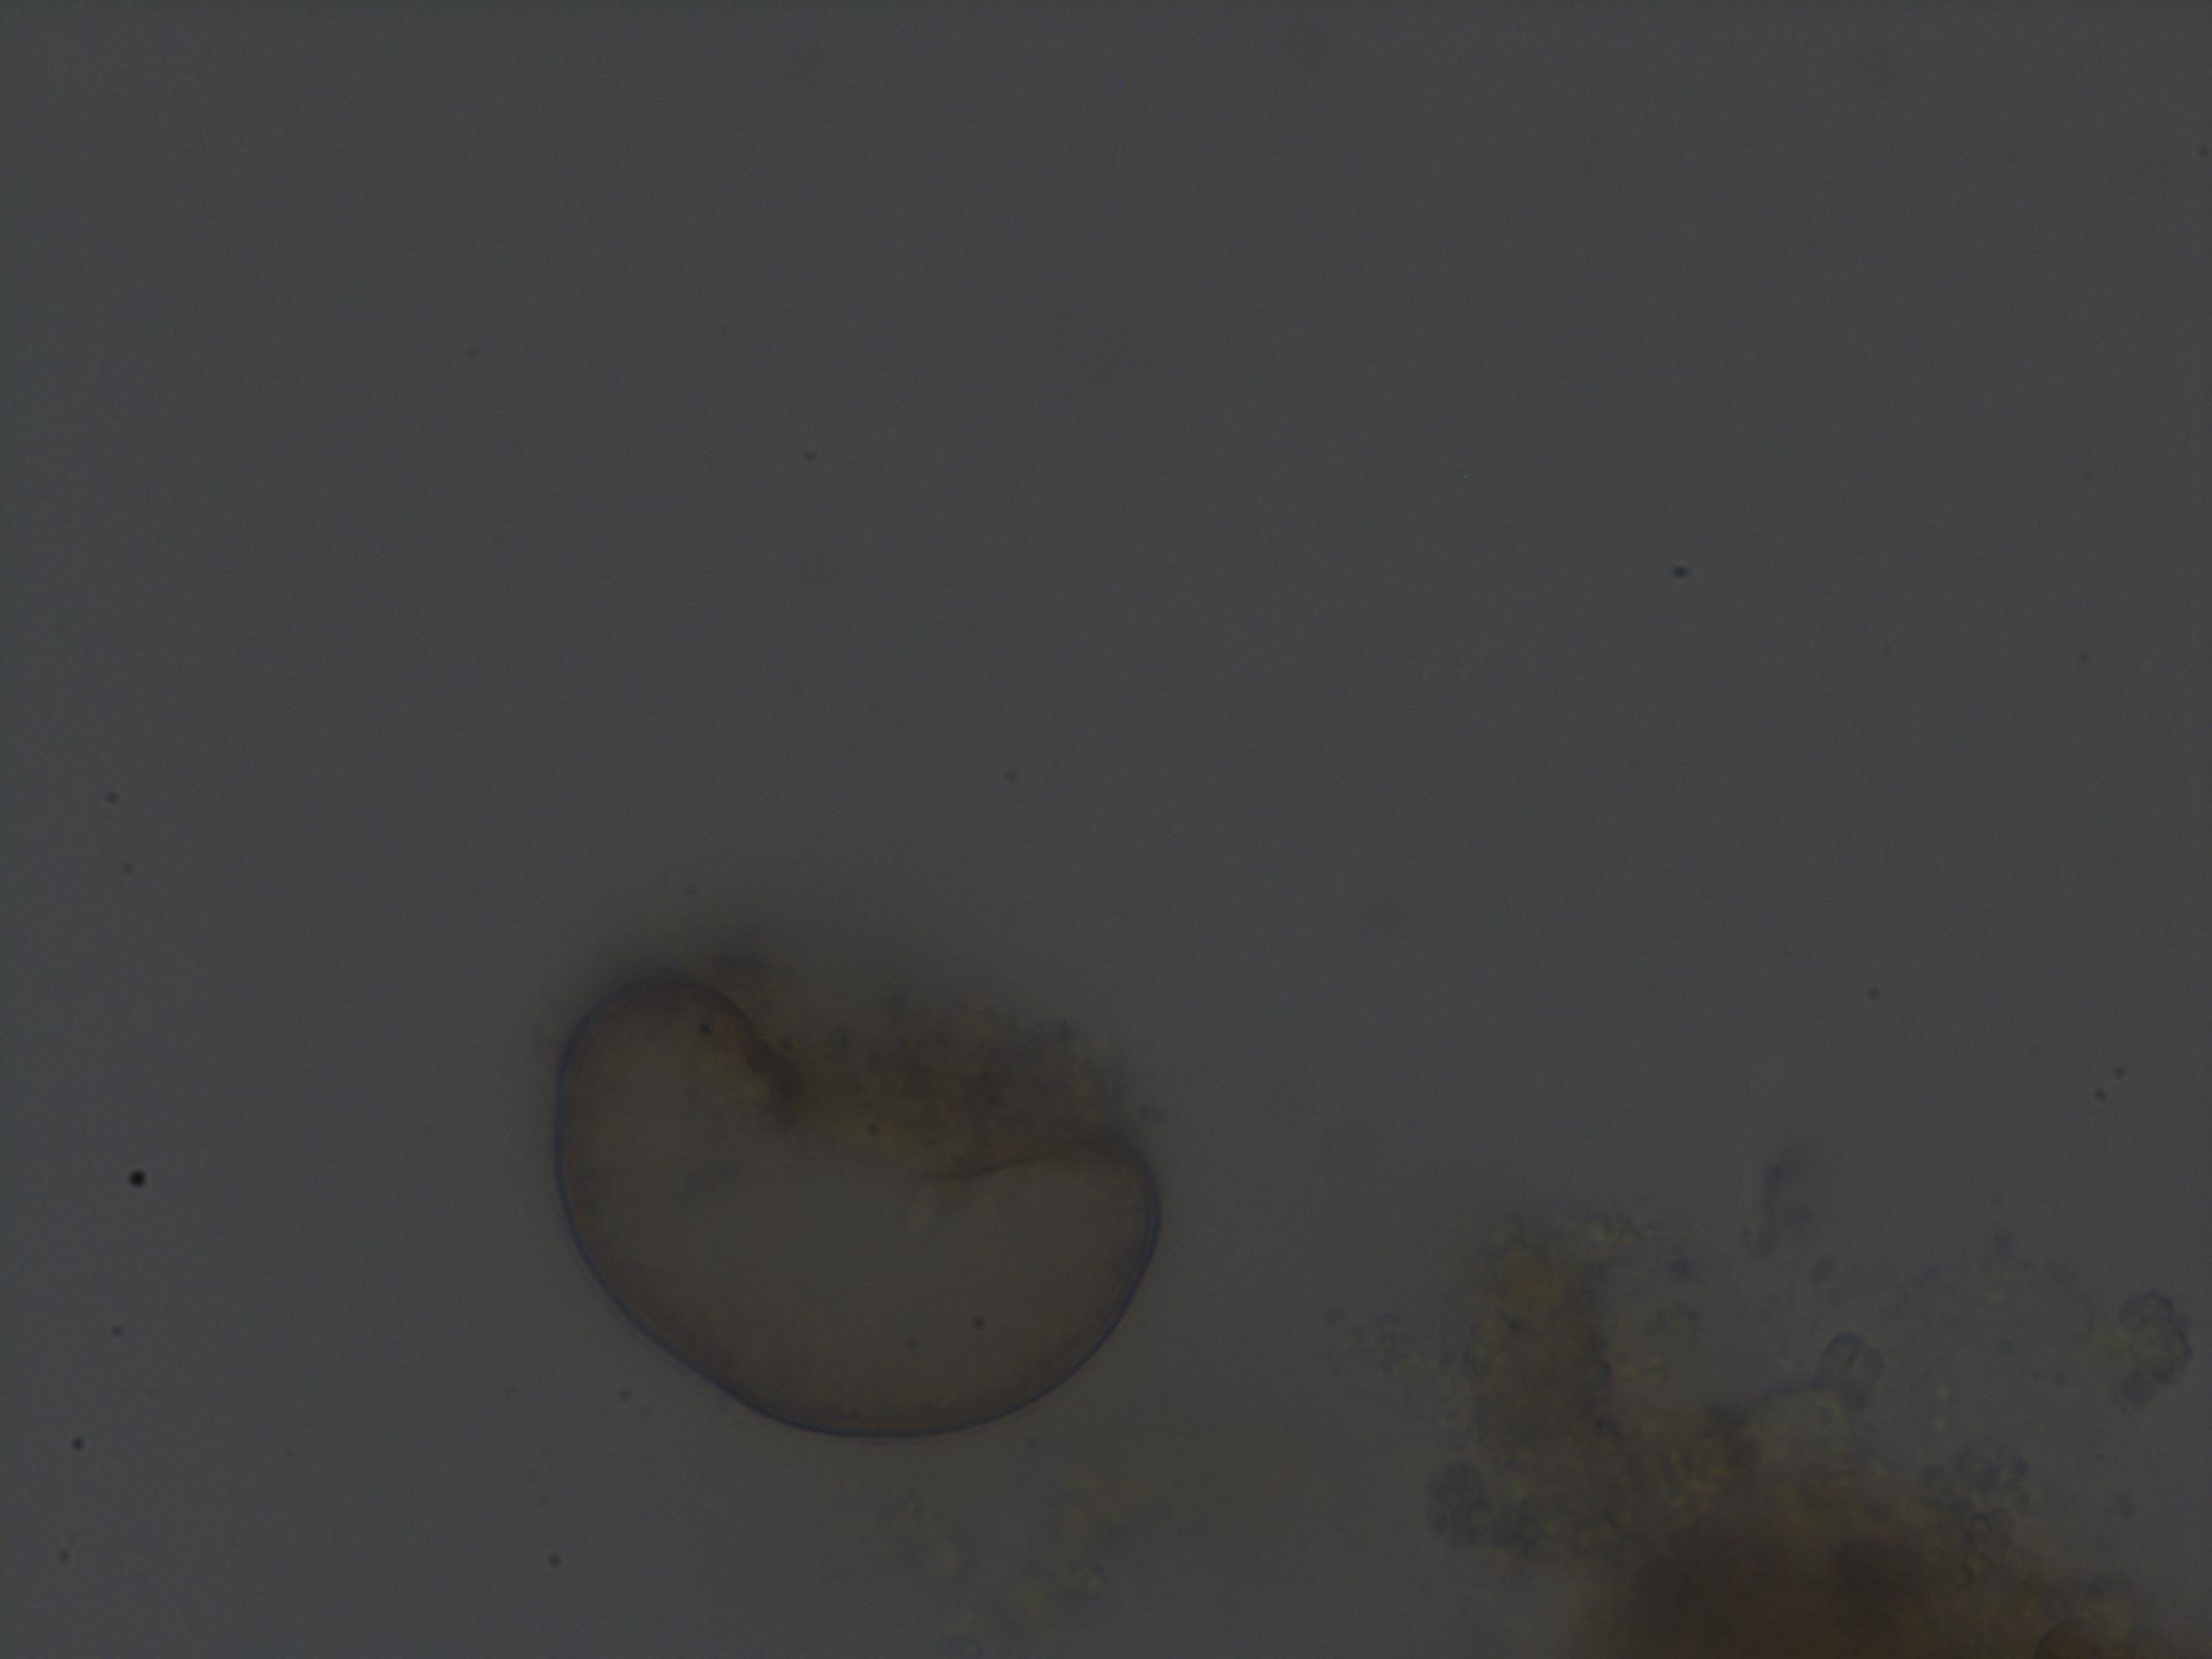protozoa: (533, 953, 1181, 1453)
